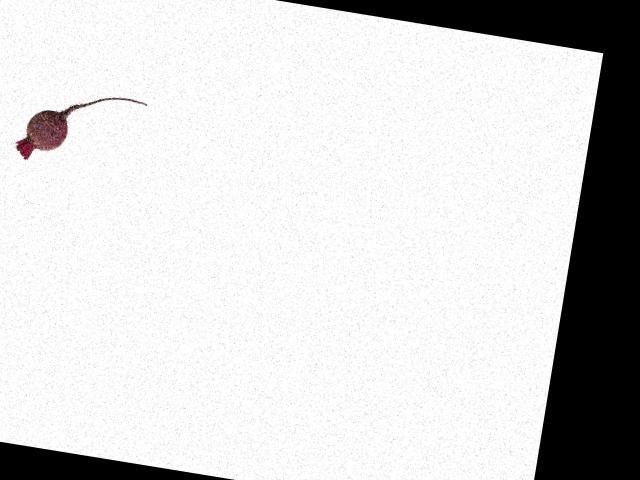beet: (14, 81, 149, 177)
